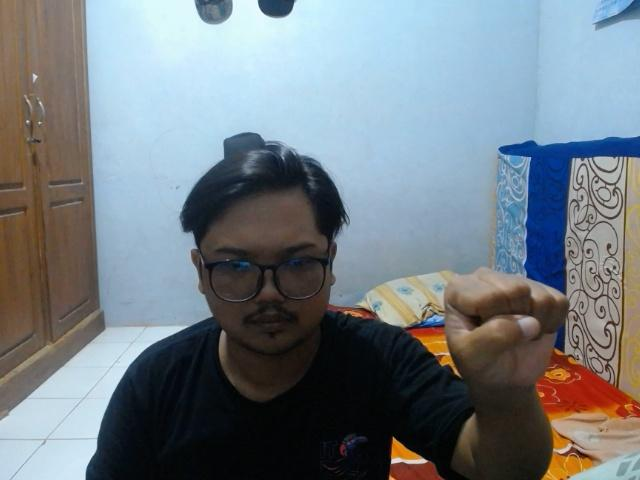Grab: (438, 262, 577, 402)
